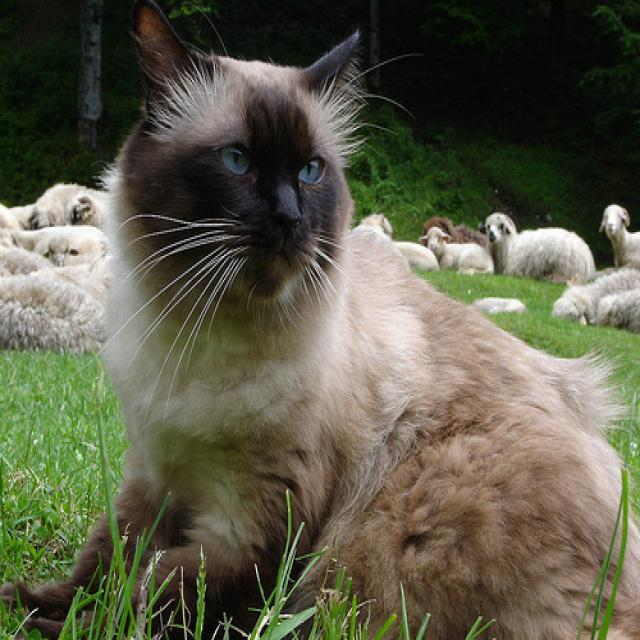Siamese: (102, 0, 370, 336)
